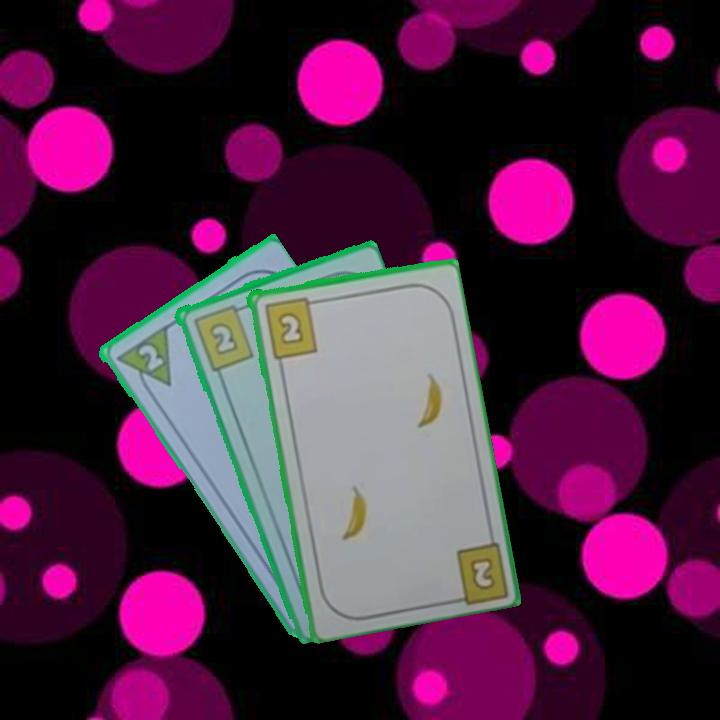2b: (189, 301, 256, 374), (260, 293, 321, 361), (469, 557, 495, 590)
2p: (133, 340, 166, 374)
